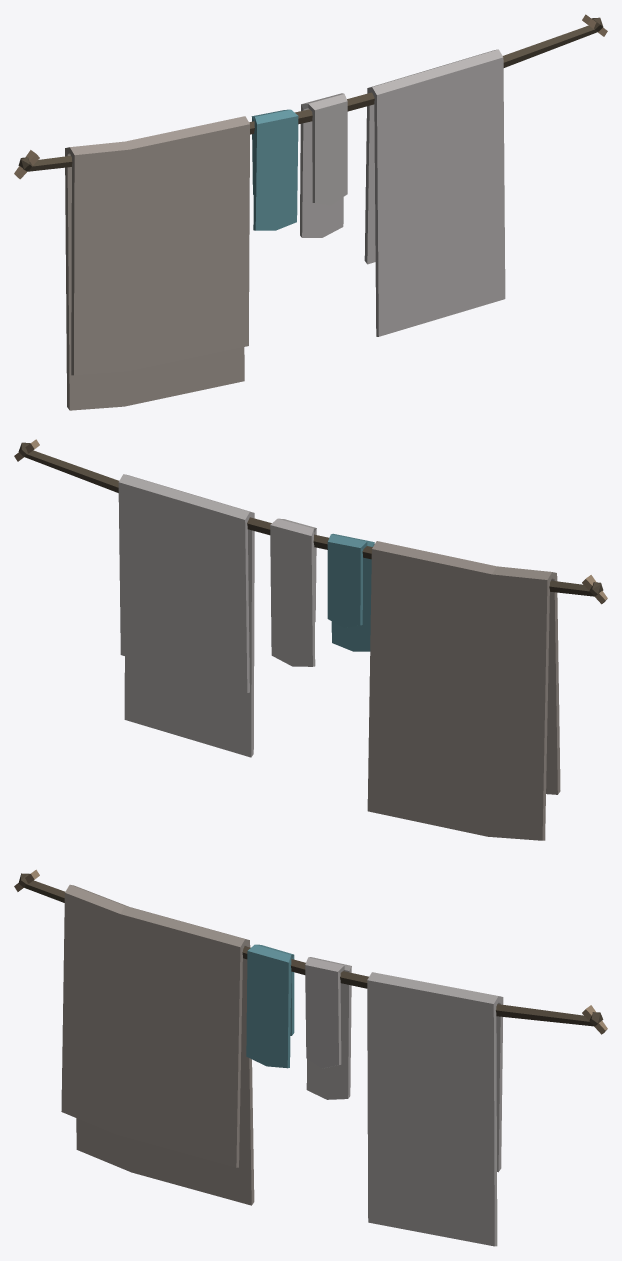
Rendered from SM_Prop_Washingline_Small_01.glb.
3 renders of one model, top to bottom at view 1: azimuth 30°, elevation 25°; view 2: azimuth 150°, elevation 25°; view 3: azimuth 330°, elevation 25°, orthographic.
Visible parts, largest first — view 1: SM_Prop_Washingline_Small_01; view 2: SM_Prop_Washingline_Small_01; view 3: SM_Prop_Washingline_Small_01.
Part boxes in pixels (x1,y1,x2,y2): SM_Prop_Washingline_Small_01: (14,14,607,410); SM_Prop_Washingline_Small_01: (14,439,607,840); SM_Prop_Washingline_Small_01: (14,869,607,1246).
Size of the model in its own units: 3.96 by 1.82 by 0.1434.
1 material, 1 textured.
